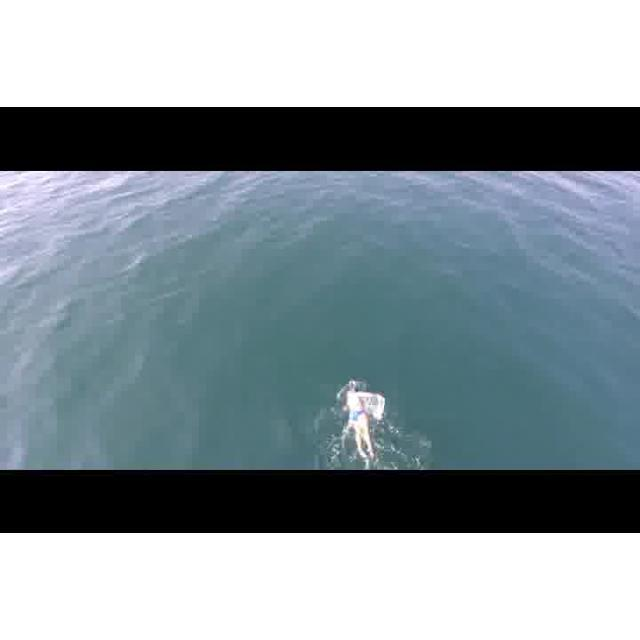human: (341, 381, 390, 468)
